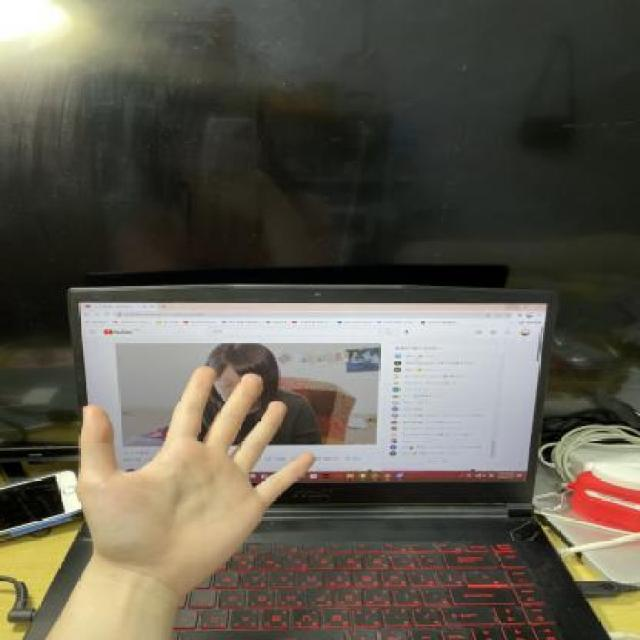hand: (61, 358, 327, 608)
